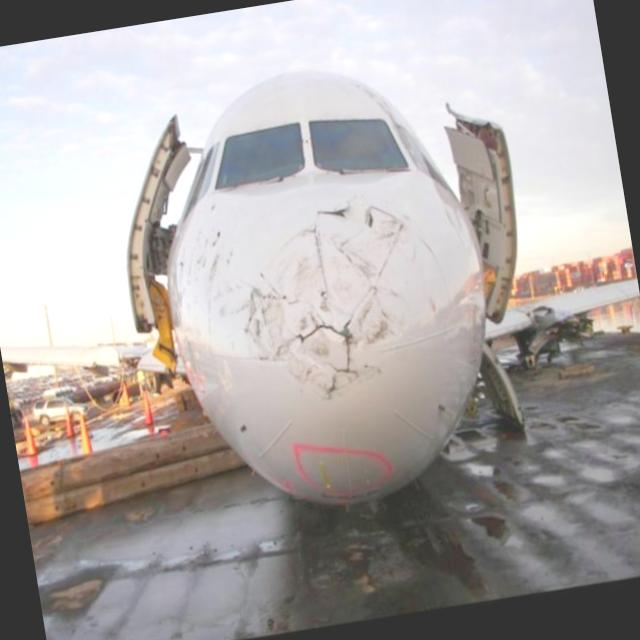crack: (222, 194, 435, 417)
